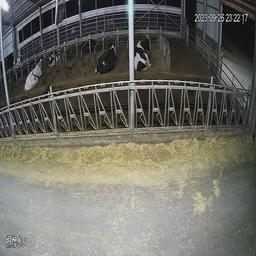cow: (92, 34, 123, 82), (20, 51, 47, 93), (135, 28, 155, 77), (47, 38, 67, 69)
